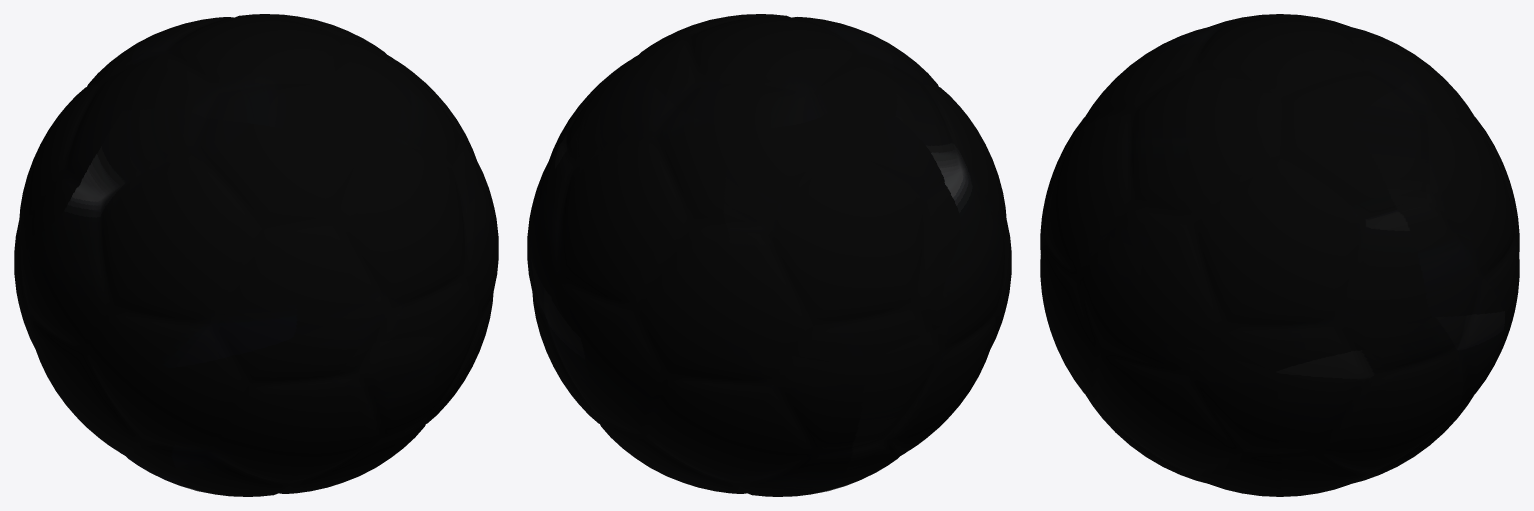
The model's file is football.fbx.
The picture shows the model from 3 angles, left to right: view 1: azimuth 30°, elevation 25°; view 2: azimuth 150°, elevation 25°; view 3: azimuth 270°, elevation 25°; orthographic projection.
Visible parts, largest first — view 1: Object_3, Object_2; view 2: Object_3, Object_2; view 3: Object_3, Object_2.
Boxes of the visible parts, x1,y1,x2,y2 form: Object_3: (14, 14, 498, 496); Object_2: (19, 16, 493, 483); Object_3: (527, 14, 1011, 496); Object_2: (532, 16, 1006, 483); Object_3: (1040, 14, 1519, 496); Object_2: (1045, 18, 1514, 471).
Size of the model in its own units: 210 by 211 by 209.
2 materials, 2 textured.
